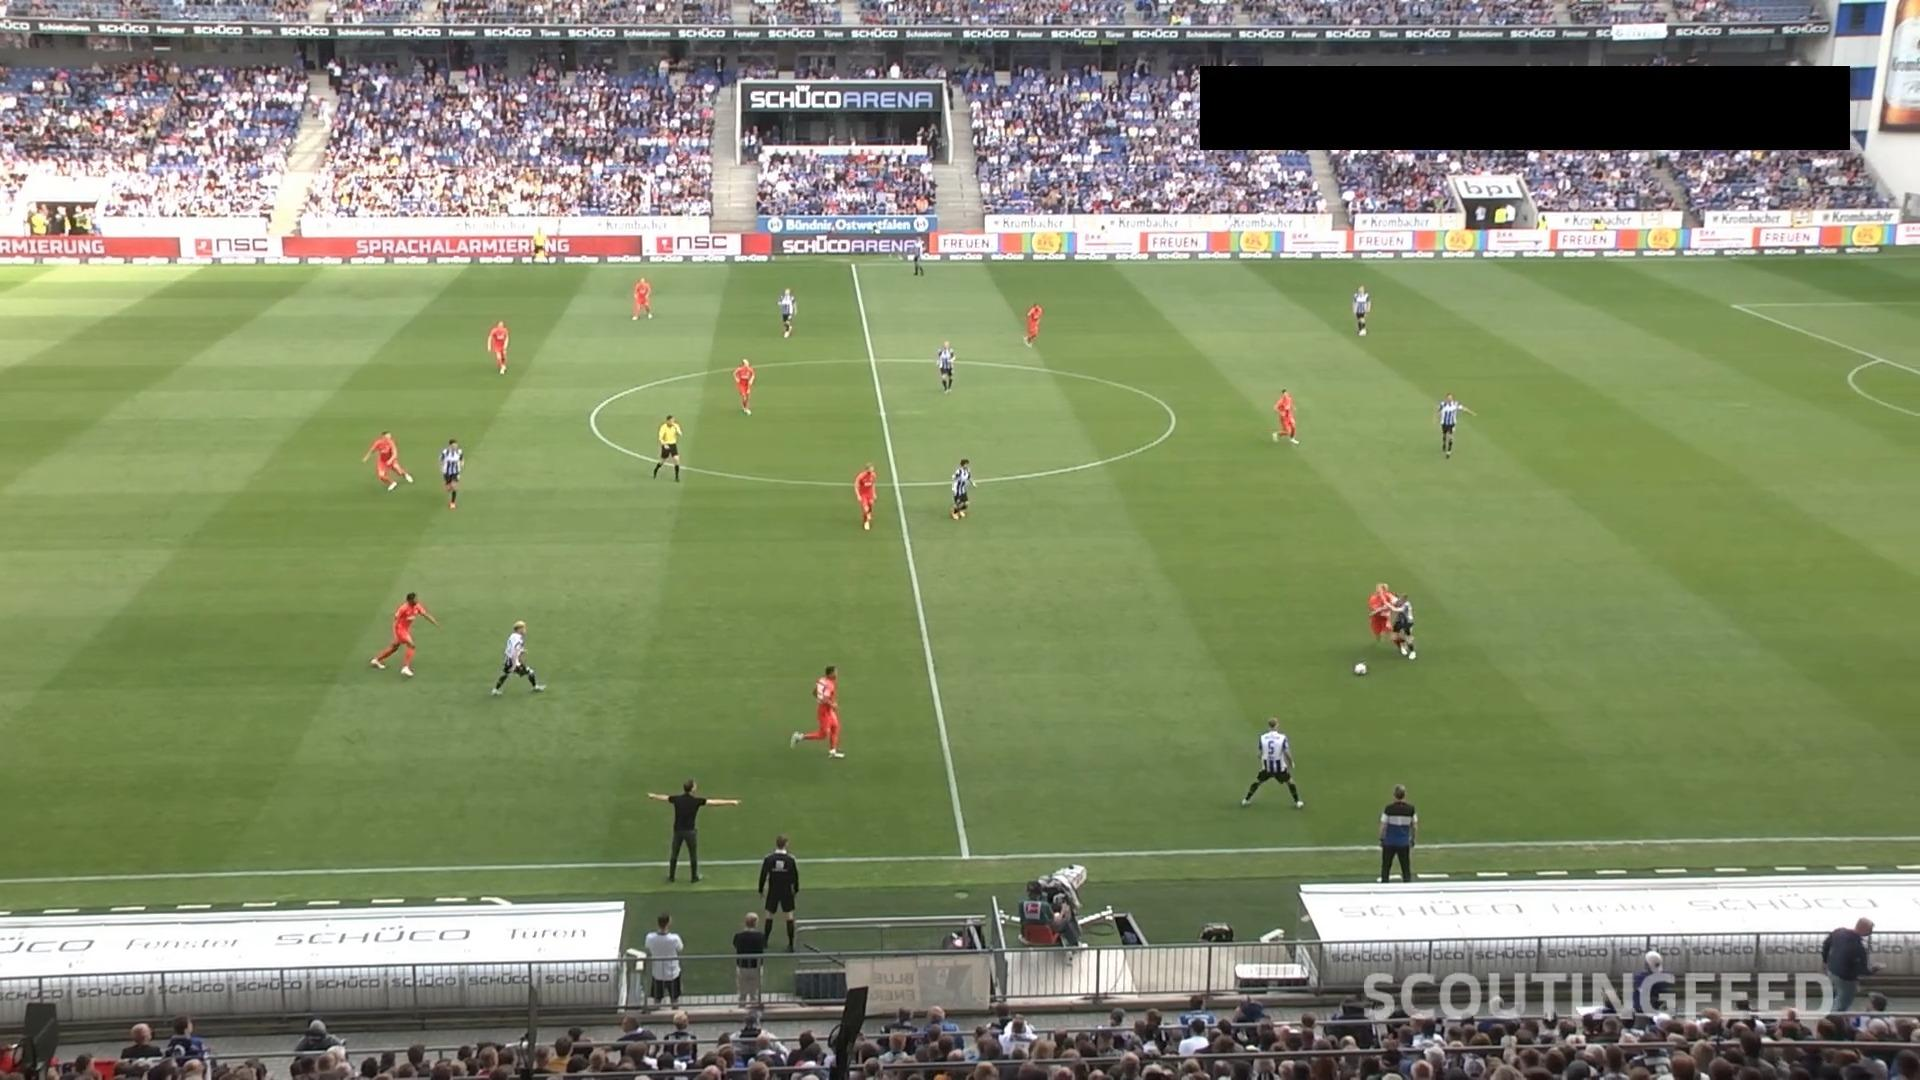ball: (1353, 661, 1369, 676)
